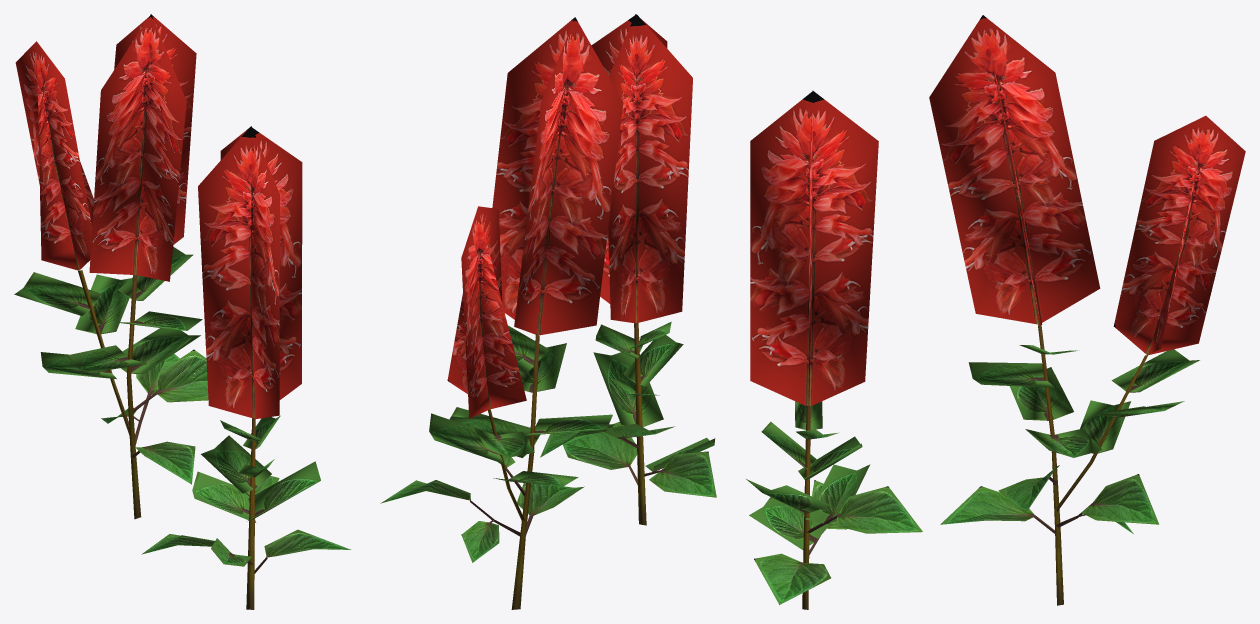
Rendered from Salvia splendens_m.FBX.
3 renders of one model, left to right at view 1: azimuth 30°, elevation 25°; view 2: azimuth 150°, elevation 25°; view 3: azimuth 270°, elevation 25°, orthographic. The views are drawn at different scales.
Visible parts, largest first — view 1: Salvia splendens_001, Salvia splendens001; view 2: Salvia splendens_001, Salvia splendens001; view 3: Salvia splendens_001, Salvia splendens001.
Boxes of the visible parts, left/top/right/bottom form: Salvia splendens_001: left=14, top=14, right=208, bottom=519; Salvia splendens001: left=141, top=126, right=350, bottom=609; Salvia splendens_001: left=380, top=17, right=623, bottom=609; Salvia splendens001: left=540, top=14, right=716, bottom=525; Salvia splendens_001: left=929, top=15, right=1245, bottom=605; Salvia splendens001: left=746, top=90, right=922, bottom=609.
Bounding box in the file's own units: 27.95 × 80.47 × 62.43.
